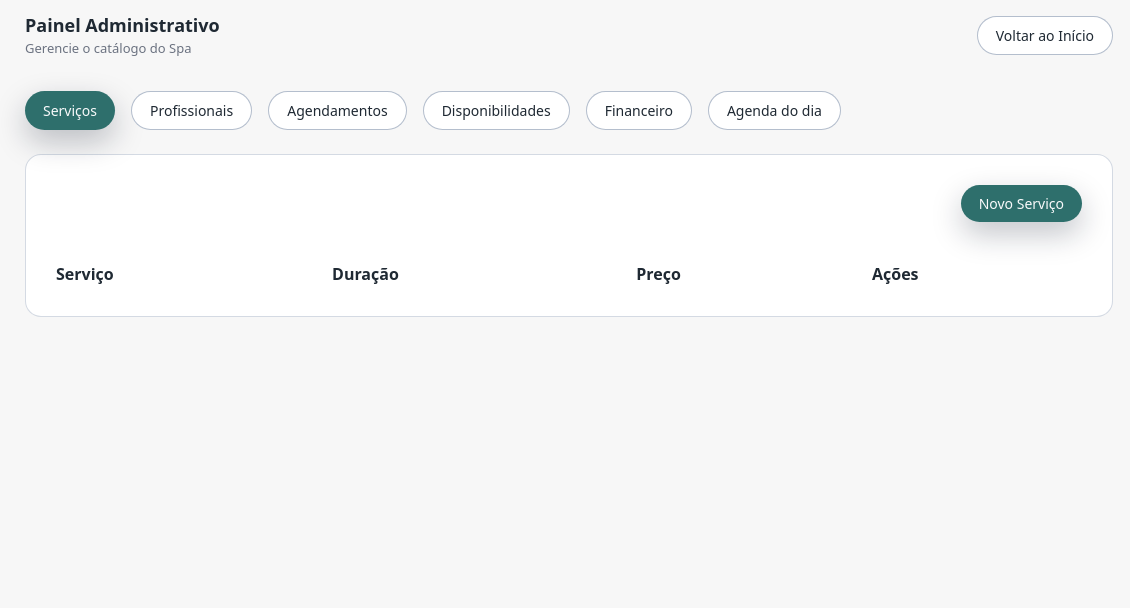
Test: blocks_tab_shows_load_error › blocks_tab_shows_load_error
The image size is (1130, 608).
Click the button "Disponibilidades" at (496, 110), box [423,90,570,130]
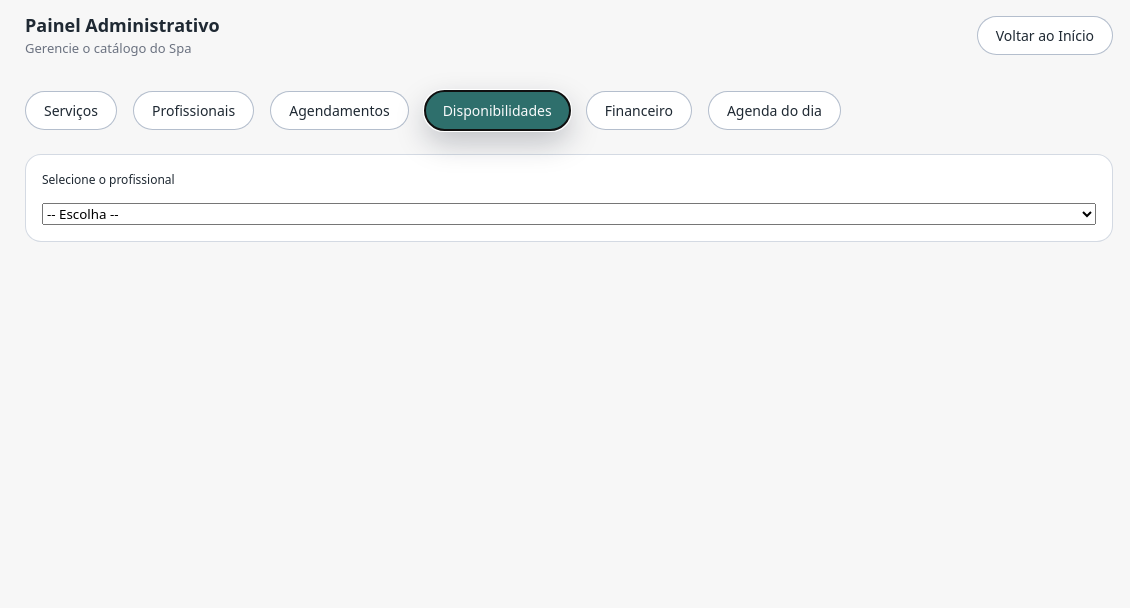
Select "Ana" in the dropdown at (569, 214), box [42,202,1096,224]
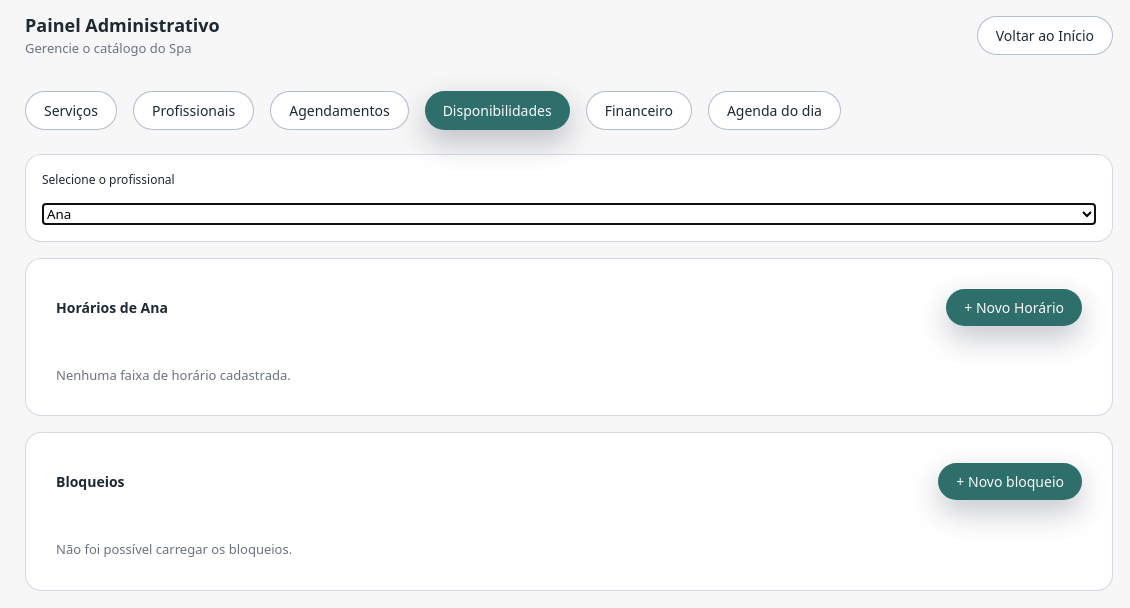
Expected: the text "Não foi possível carregar os bloqueios." is shown, [56,540,292,558]
